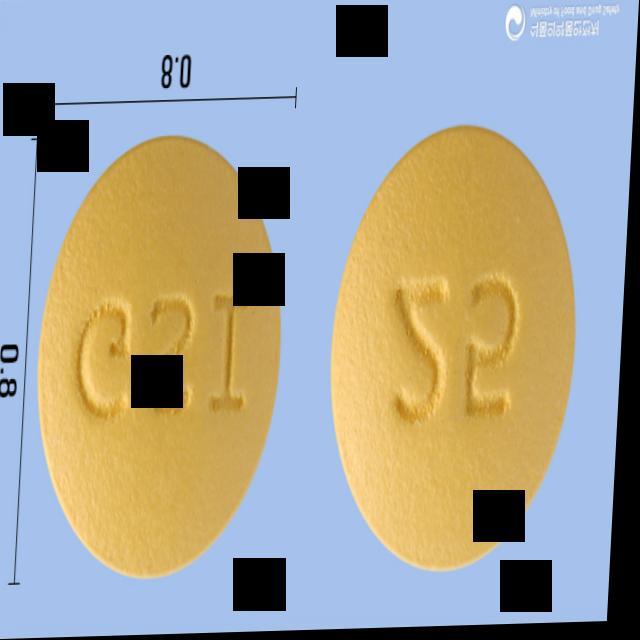Vemlidy Tab: (326, 125, 589, 582), (33, 133, 294, 588)
